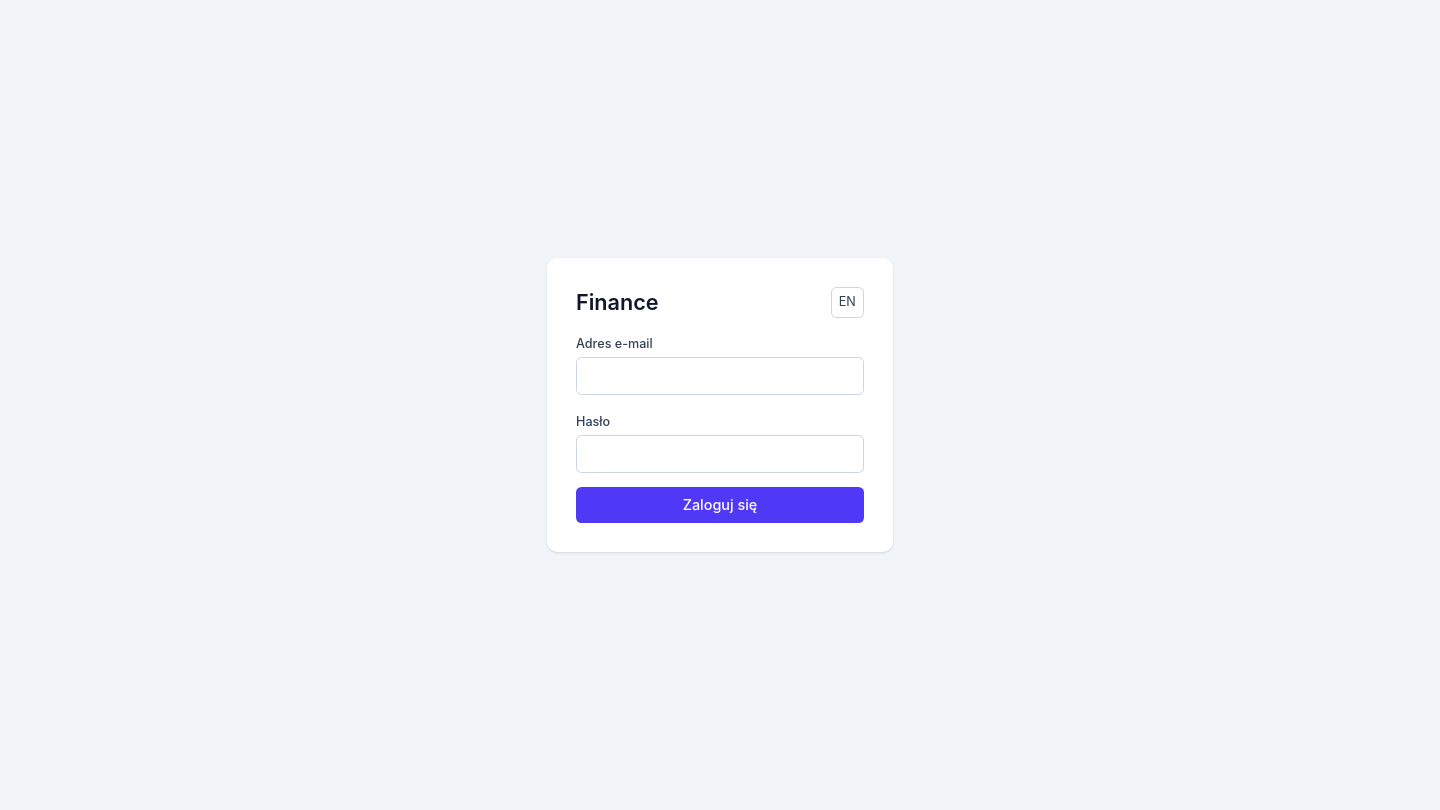
logging in and out › logs in and then opens the address the link pointed to
The width and height of the screenshot is (1440, 810).
Type "user@example.com" into the field labelled "Adres e-mail" at (720, 376), box [576,357,864,395]
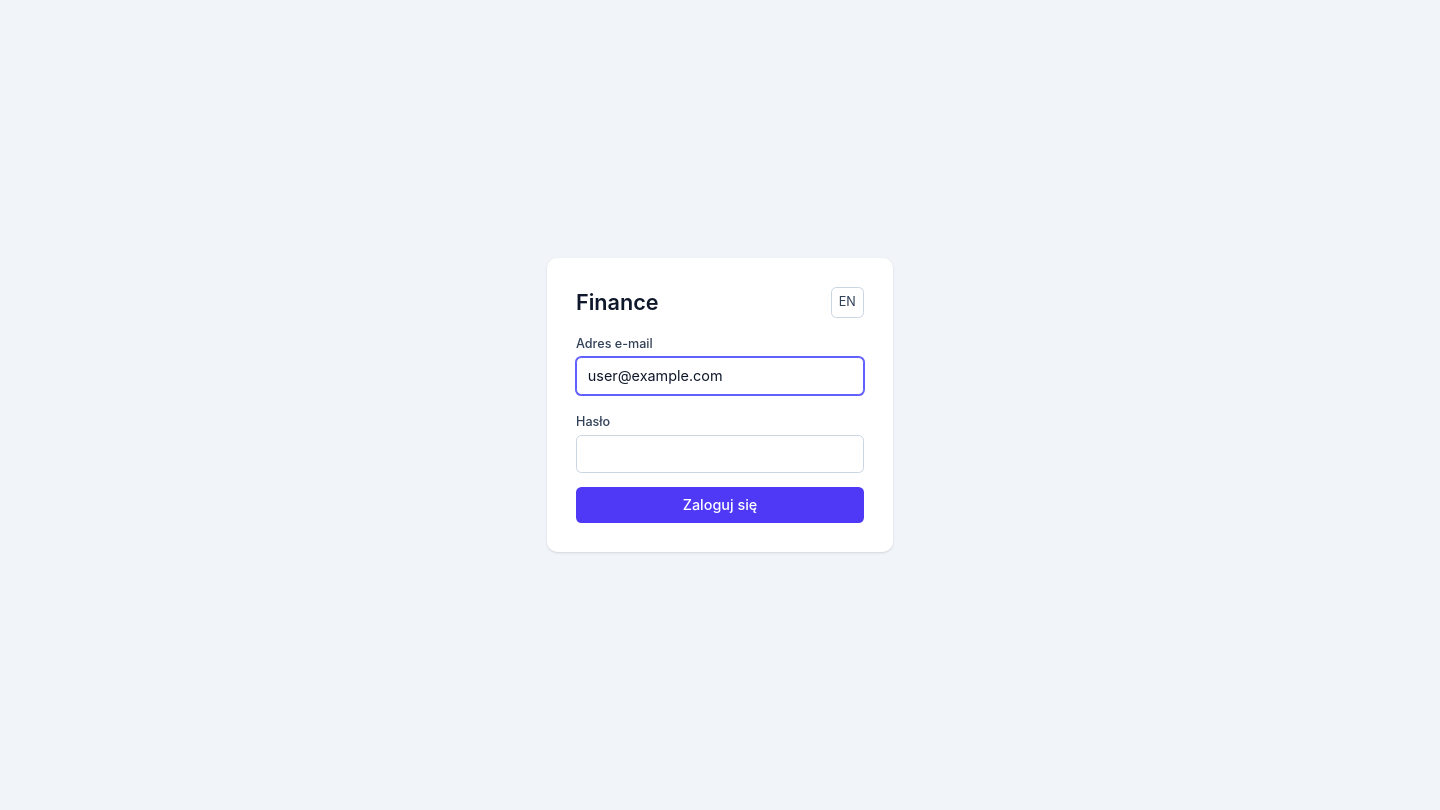
Type "secret" into the password field labelled "Hasło" at (720, 454), box [576,435,864,473]
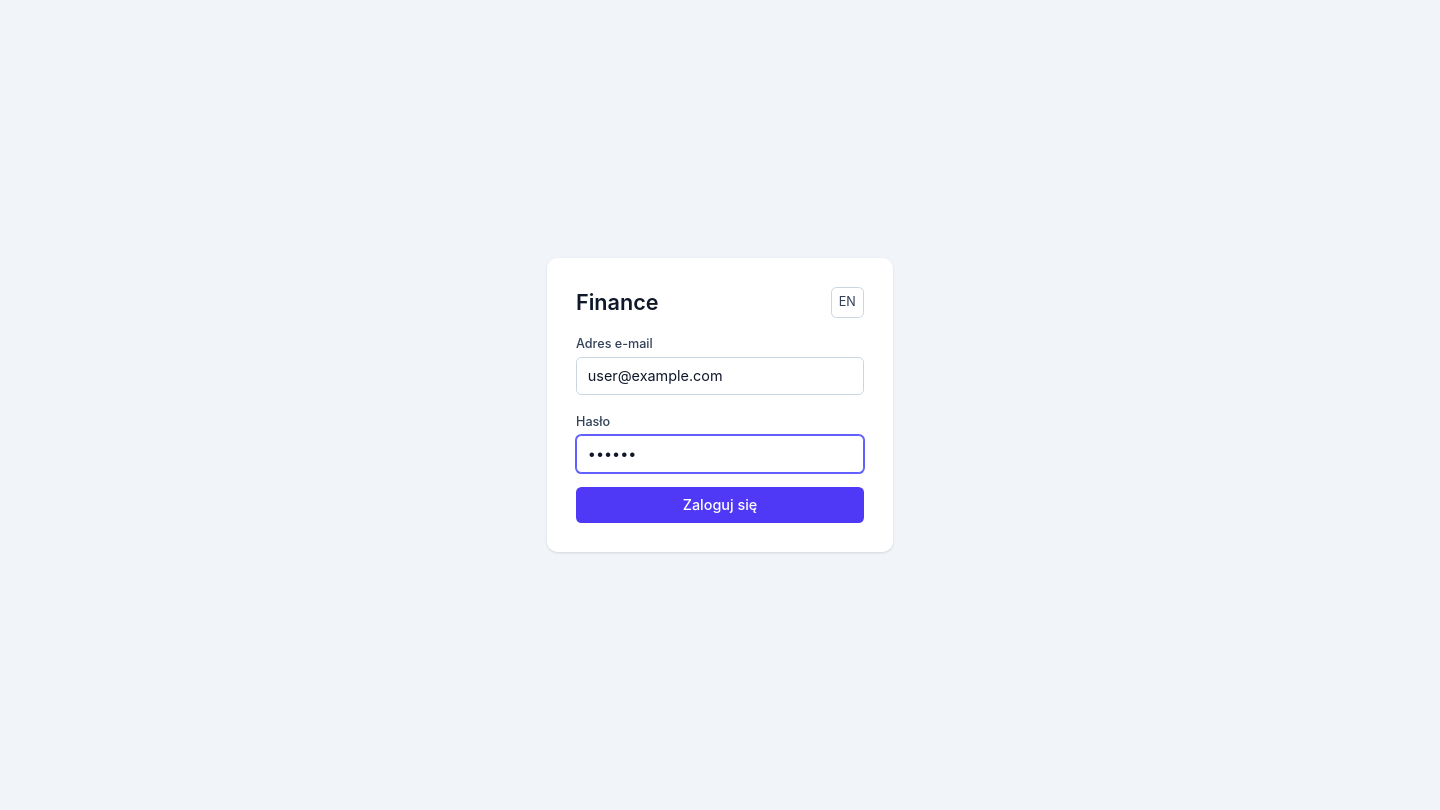
Click the button "Zaloguj się" at (720, 505), box [576,487,864,523]
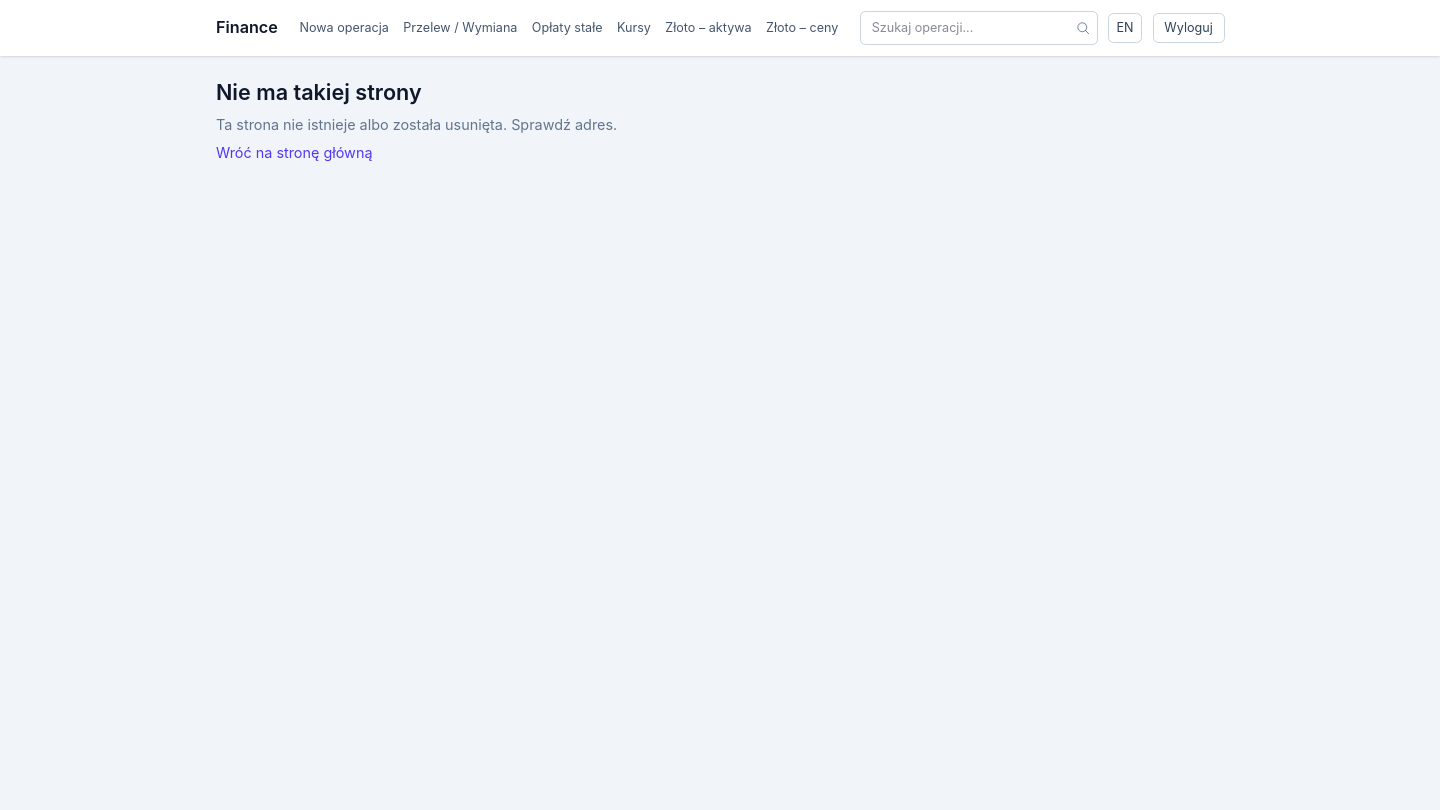
Expected: the heading "Nie ma takiej strony" is shown, [216,78,422,104]
Expected: the button "Wyloguj" is shown, [1152,13,1224,43]
